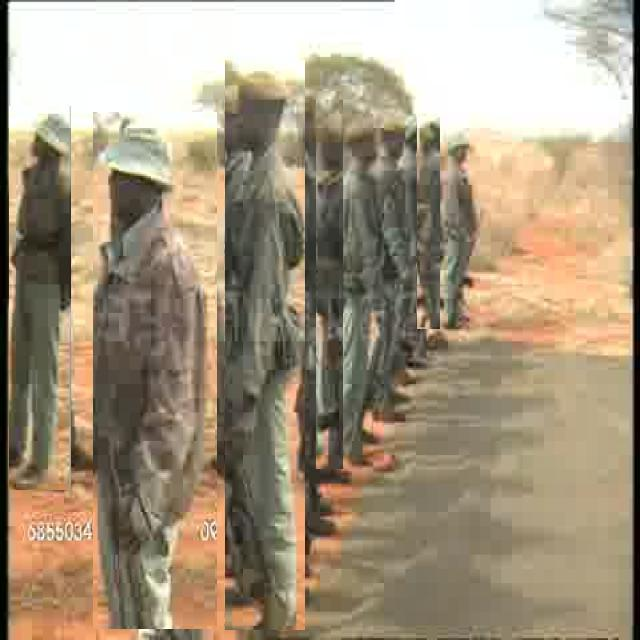poacher: (94, 112, 218, 629), (226, 60, 306, 630), (9, 107, 71, 490), (347, 118, 377, 462), (376, 123, 414, 393), (316, 91, 343, 469), (451, 110, 476, 334), (417, 117, 440, 329)
